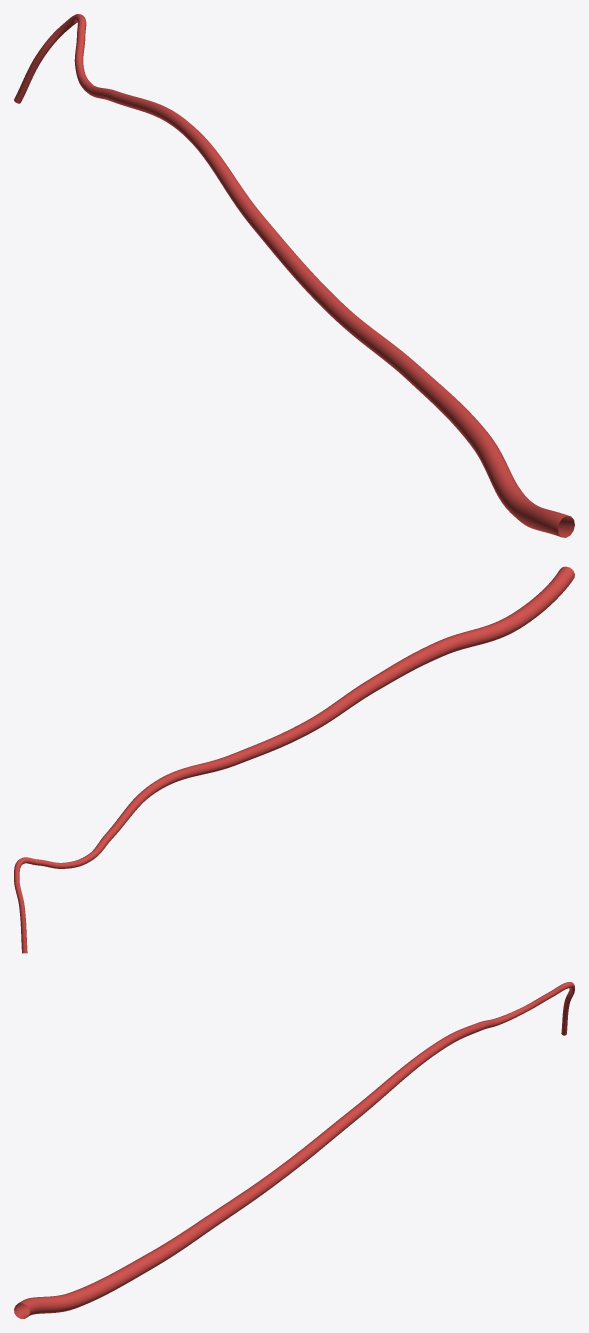
3 renders of one model, top to bottom at view 1: azimuth 30°, elevation 25°; view 2: azimuth 150°, elevation 25°; view 3: azimuth 330°, elevation 25°, orthographic. The views are drawn at different scales.
Visible parts, largest first — view 1: 右侧胫后动脉; view 2: 右侧胫后动脉; view 3: 右侧胫后动脉.
Boxes of the visible parts, x1,y1,x2,y2 form: 右侧胫后动脉: (14, 14, 574, 537); 右侧胫后动脉: (14, 566, 574, 953); 右侧胫后动脉: (14, 982, 574, 1318).
Bounding box in the file's own units: 0.0646 × 0.0464 × 0.4958.
